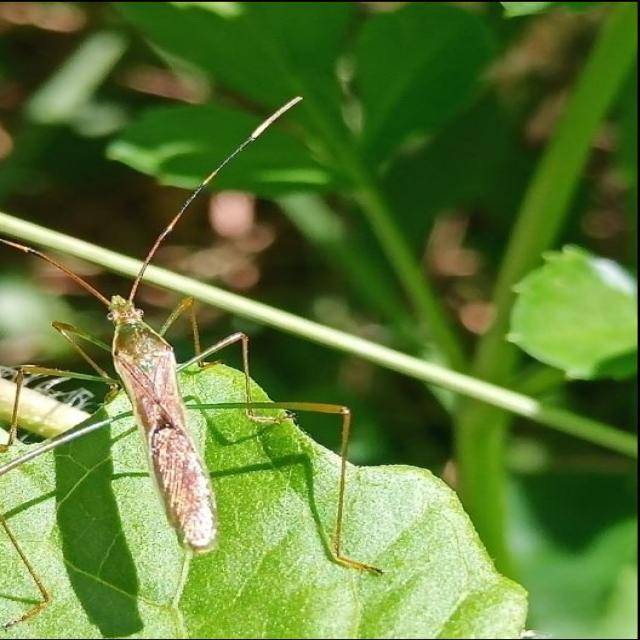walang sangit pada tanaman padi: (4, 78, 392, 634)
